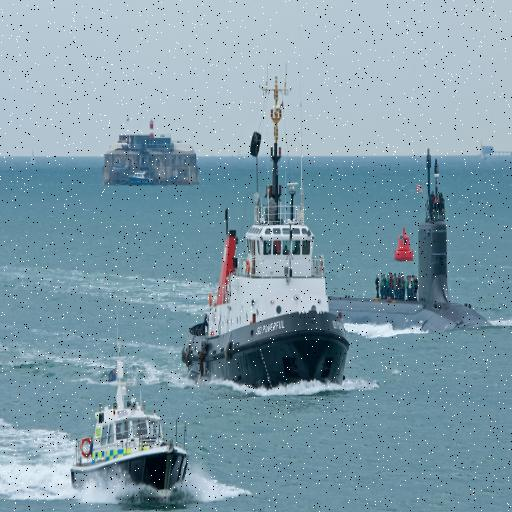submarine: (330, 150, 500, 329)
